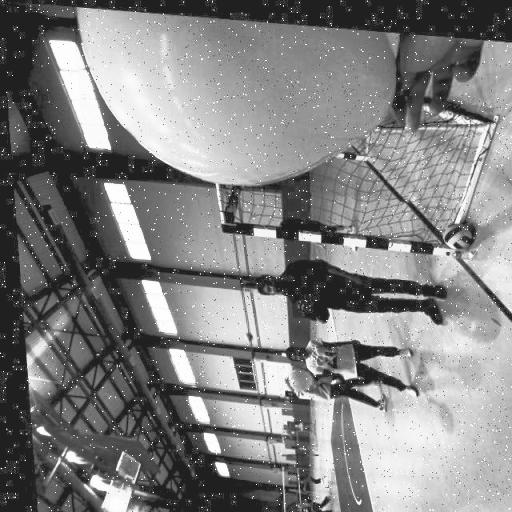balloon: (73, 4, 408, 194), (287, 284, 324, 314), (281, 361, 311, 387)
